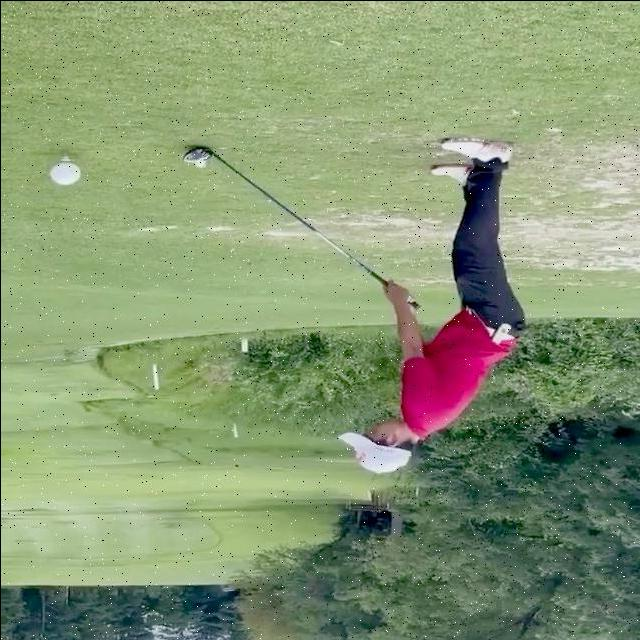golf ball: (193, 159, 205, 167)
golf club-handle: (181, 146, 419, 309)
golf club-head: (181, 146, 211, 161)
